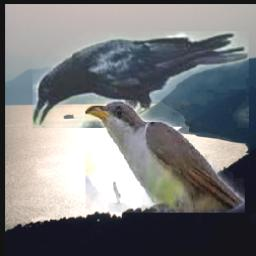Crow: (34, 31, 250, 128)
Cuckoo: (86, 100, 246, 213)
